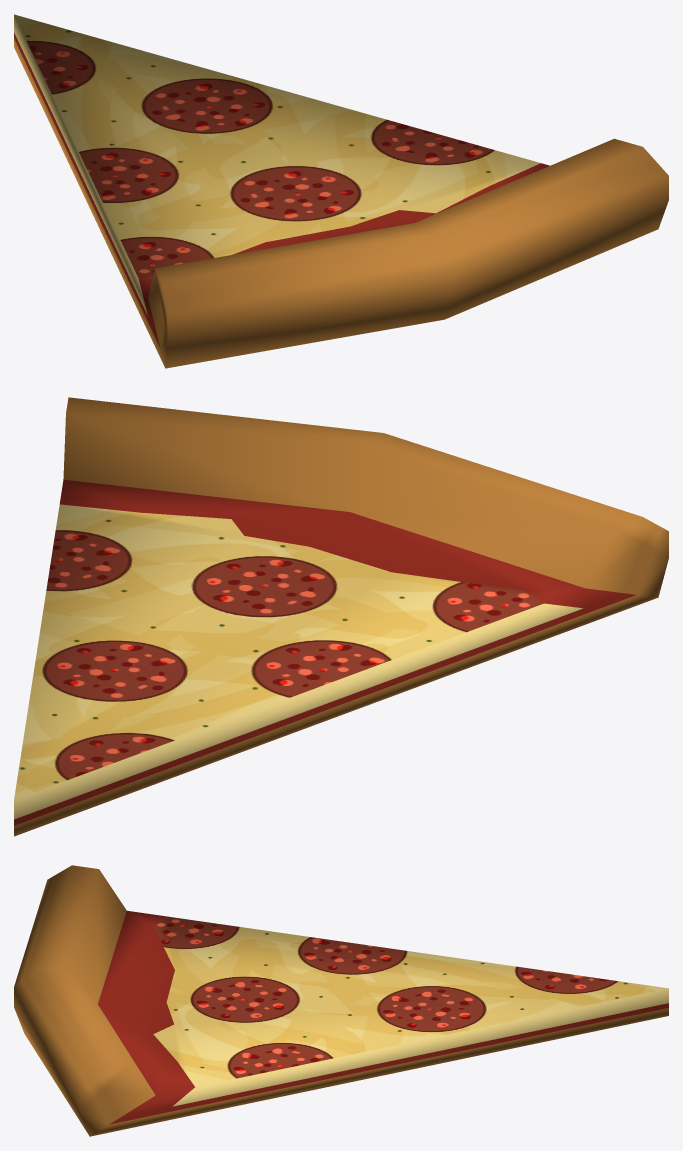
Rendered from pizza.gltf.
3 renders of one model, top to bottom at view 1: azimuth 30°, elevation 25°; view 2: azimuth 150°, elevation 25°; view 3: azimuth 270°, elevation 25°, orthographic. The views are drawn at different scales.
Parts seen in each view (by area): view 1: pizza rebanada; view 2: pizza rebanada; view 3: pizza rebanada.
Boxes of the visible parts, x1,y1,x2,y2 form: pizza rebanada: [14, 14, 668, 368]; pizza rebanada: [14, 397, 668, 836]; pizza rebanada: [14, 865, 668, 1136].
Size of the model in its own units: 0.36 by 0.0516 by 0.4703.
3 materials, 1 textured.
